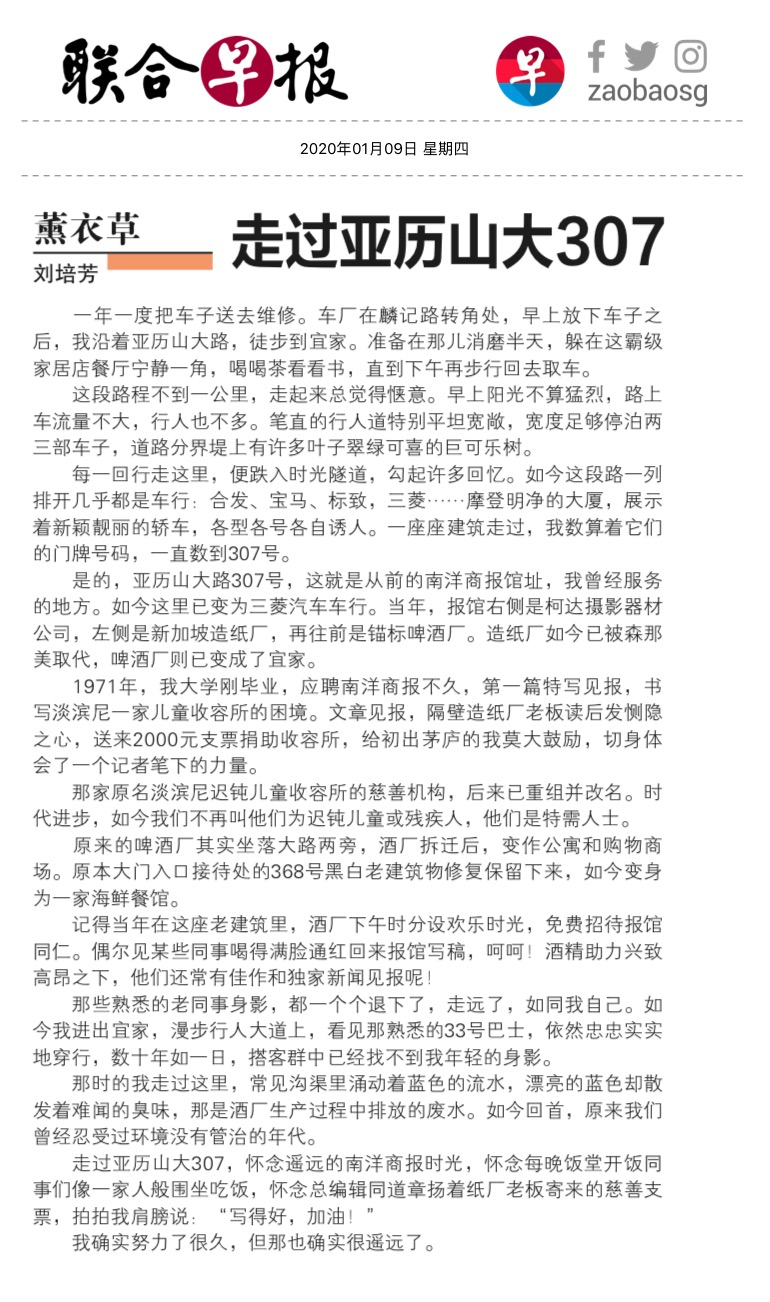heading: (228, 204, 671, 275)
